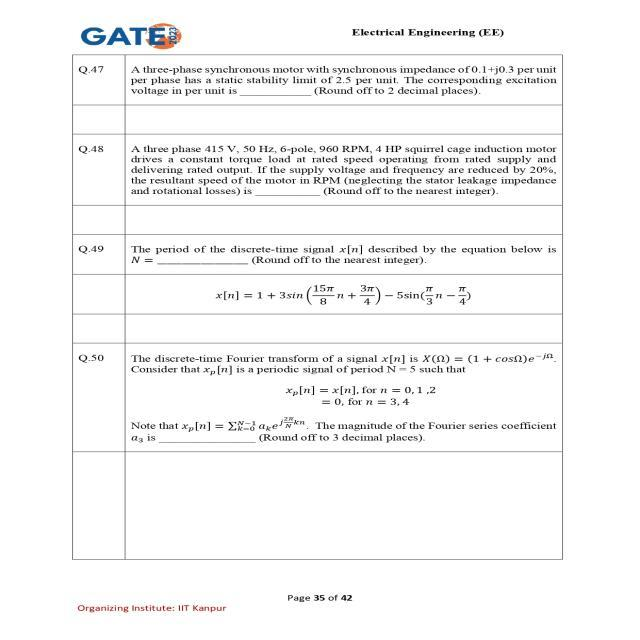Question_Answer_Block: (39, 348, 593, 454), (39, 230, 593, 322), (31, 132, 585, 203), (39, 48, 593, 110)
Question_Block: (39, 348, 593, 454), (39, 230, 593, 322), (31, 132, 585, 203), (39, 48, 593, 110)
Question_Paper_Area: (25, 47, 613, 567)
